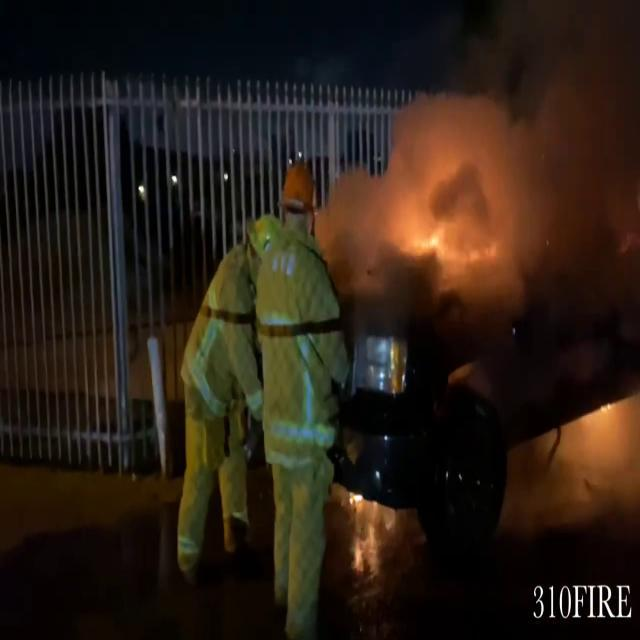Smoke: (356, 10, 640, 282)
